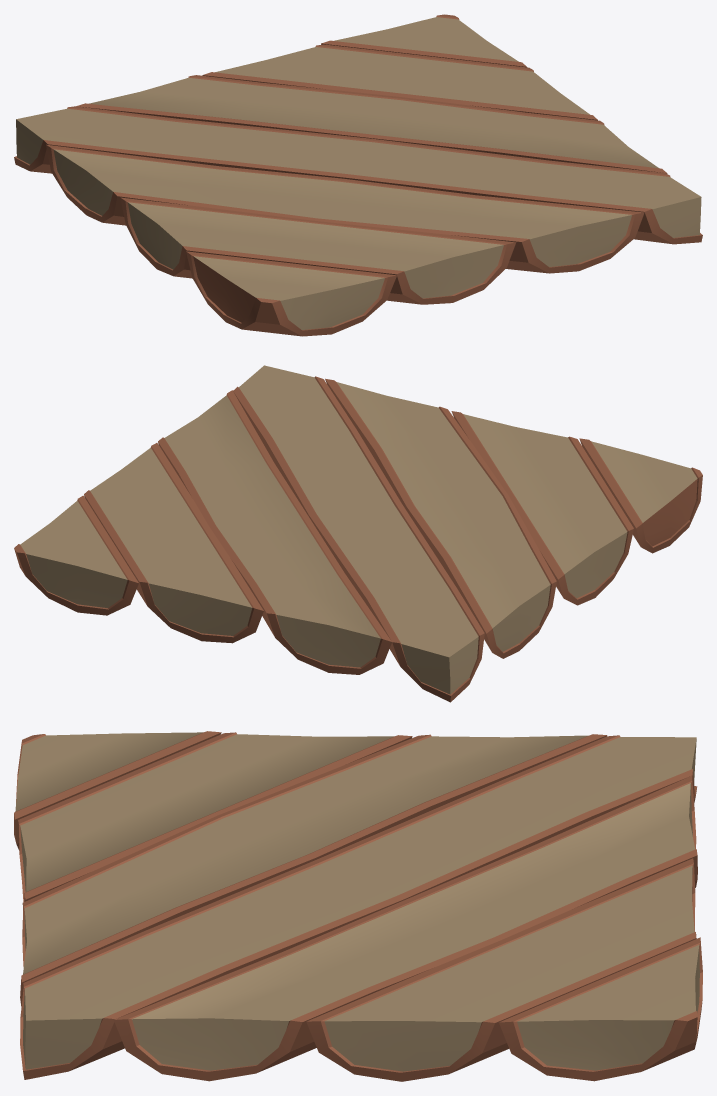
Rendered from LightWoodFloorLarge7BeamPlatform1.fbx.
The picture shows the model from 3 angles, top to bottom: view 1: azimuth 30°, elevation 25°; view 2: azimuth 150°, elevation 25°; view 3: azimuth 270°, elevation 25°; orthographic projection. The views are drawn at different scales.
Visible parts, largest first — view 1: LightWoodFloorLarge7BeamPlatform1; view 2: LightWoodFloorLarge7BeamPlatform1; view 3: LightWoodFloorLarge7BeamPlatform1.
Part boxes in pixels (x1,y1,x2,y2): LightWoodFloorLarge7BeamPlatform1: (14,14,702,336); LightWoodFloorLarge7BeamPlatform1: (14,365,702,702); LightWoodFloorLarge7BeamPlatform1: (14,731,702,1081).
Size of the model in its own units: 489 by 48.02 by 489.
